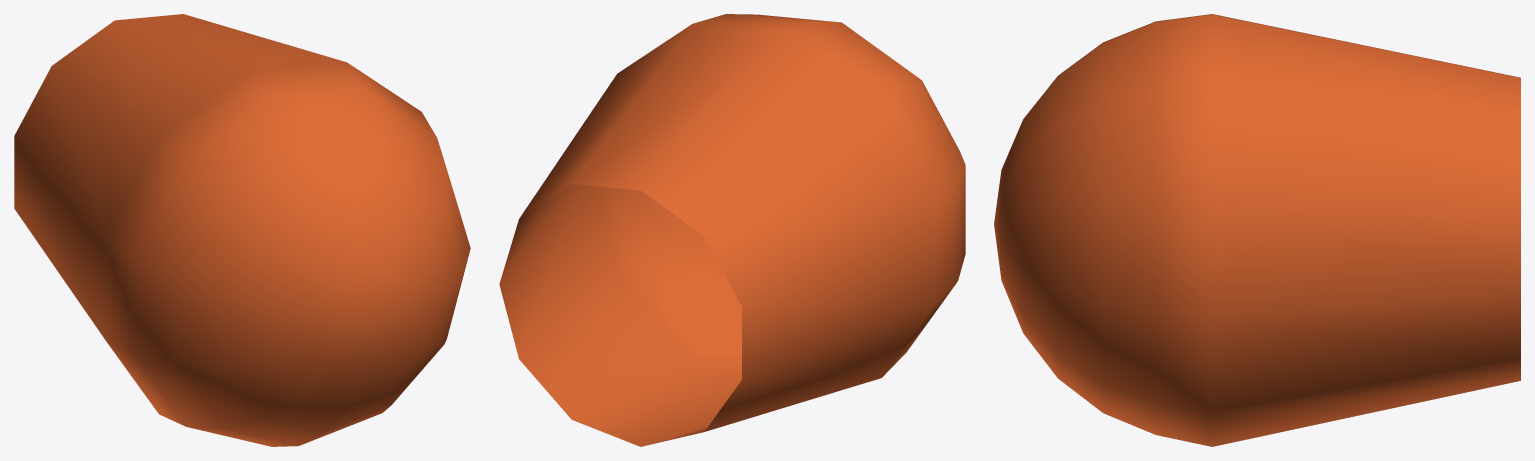
Rendered from foxtail2.obj.
The picture shows the model from 3 angles, left to right: view 1: azimuth 30°, elevation 25°; view 2: azimuth 150°, elevation 25°; view 3: azimuth 270°, elevation 25°; orthographic projection. The views are drawn at different scales.
Visible parts, largest first — view 1: tail2; view 2: tail2; view 3: tail2.
Boxes of the visible parts, box(x1,y1,x2,y2) form: tail2: box(14, 14, 470, 446); tail2: box(499, 14, 965, 446); tail2: box(994, 14, 1520, 446).
Bounding box in the file's own units: 0.1121 × 0.1132 × 0.1366.
1 material, 1 textured.
